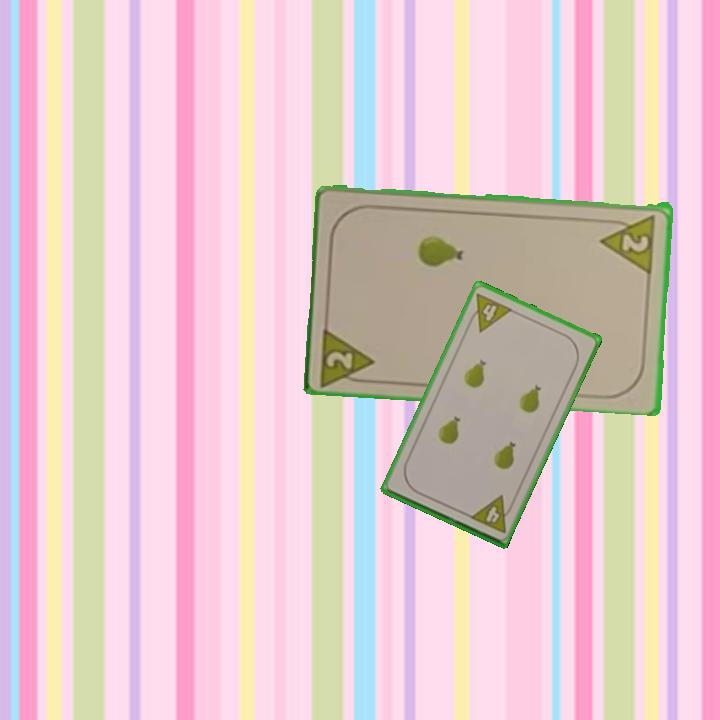2p: (317, 320, 378, 386), (598, 210, 659, 274)
4p: (463, 289, 515, 335), (466, 492, 517, 536)
